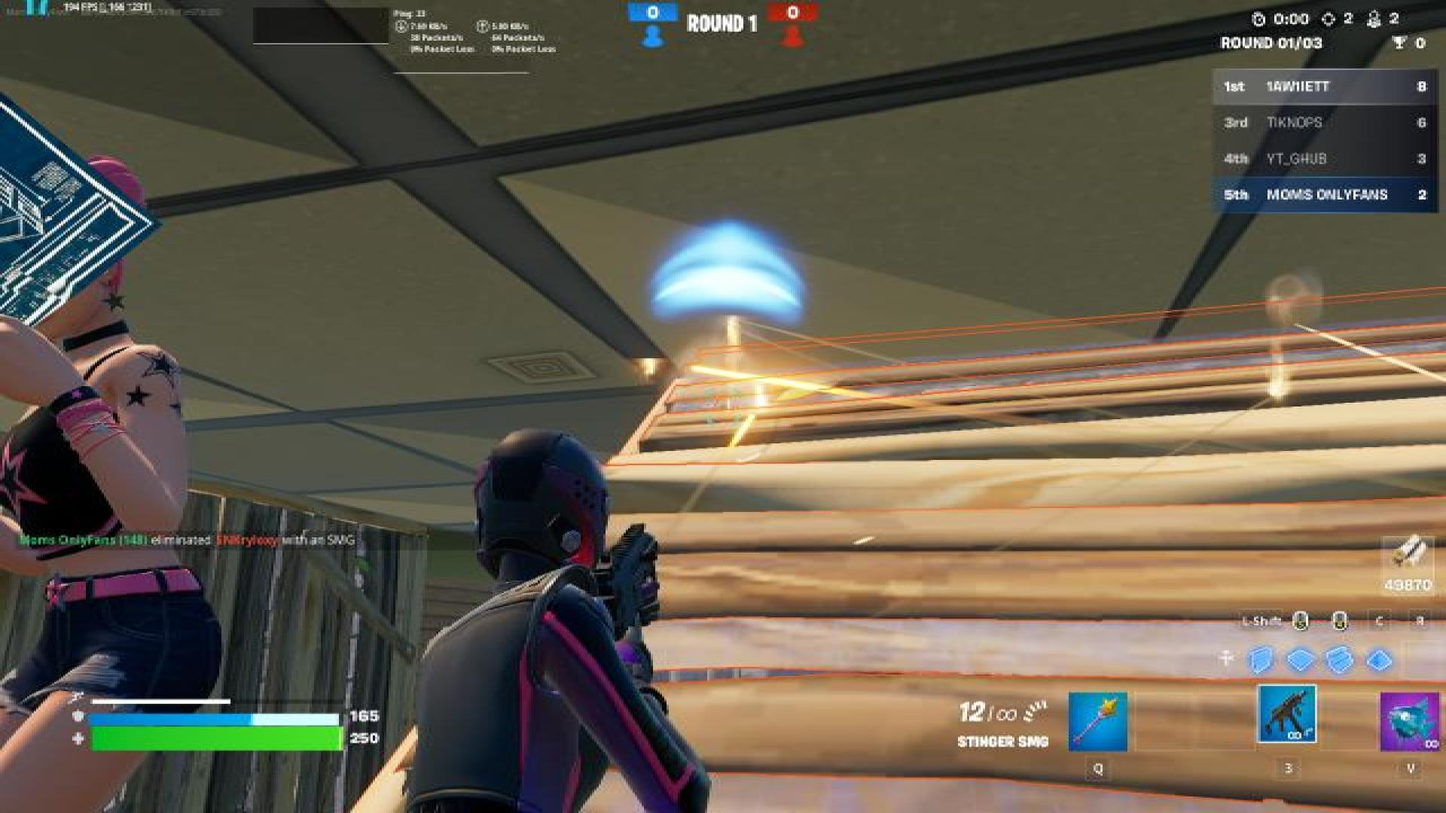player: (16, 160, 212, 812)
